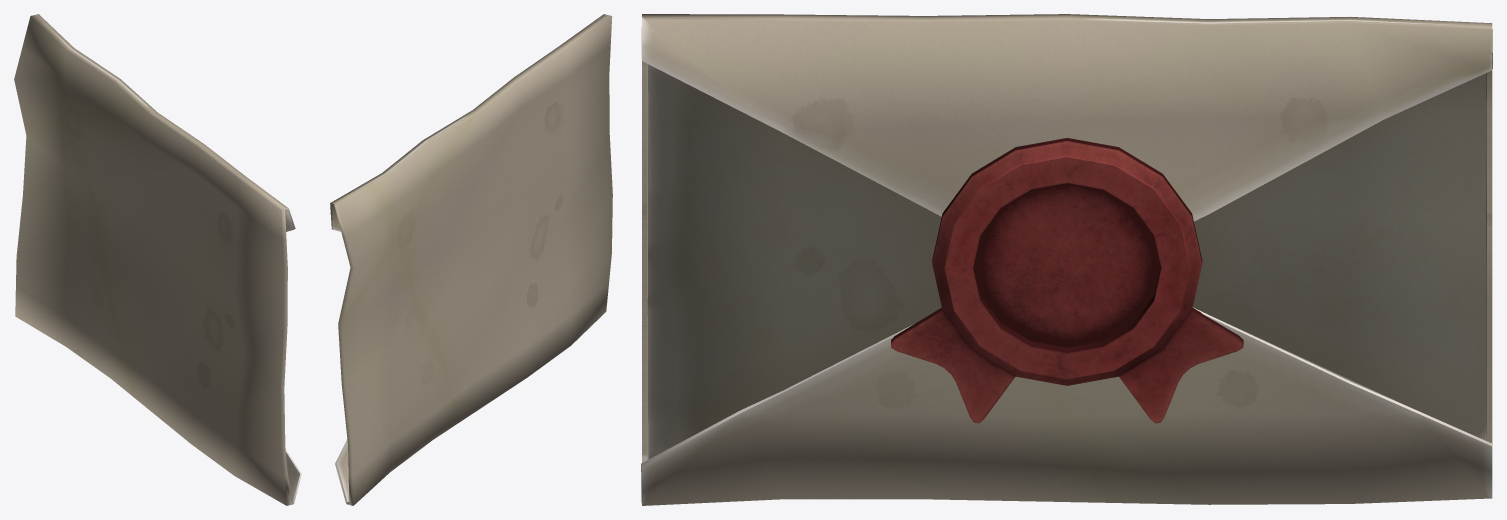
The model's file is letter.fbx.
3 views of the same model, side by side, from view 1: azimuth 30°, elevation 25°; view 2: azimuth 150°, elevation 25°; view 3: azimuth 270°, elevation 25° (orthographic). The views are drawn at different scales.
Visible parts, largest first — view 1: letter; view 2: letter; view 3: letter, mark.
Part boxes in pixels (x1,y1,x2,y2): letter: (14,14,301,505); letter: (330,14,612,505); letter: (641,14,1492,505); mark: (891,138,1243,423).
Bounding box in the file's own units: 24.76 × 200 × 321.
